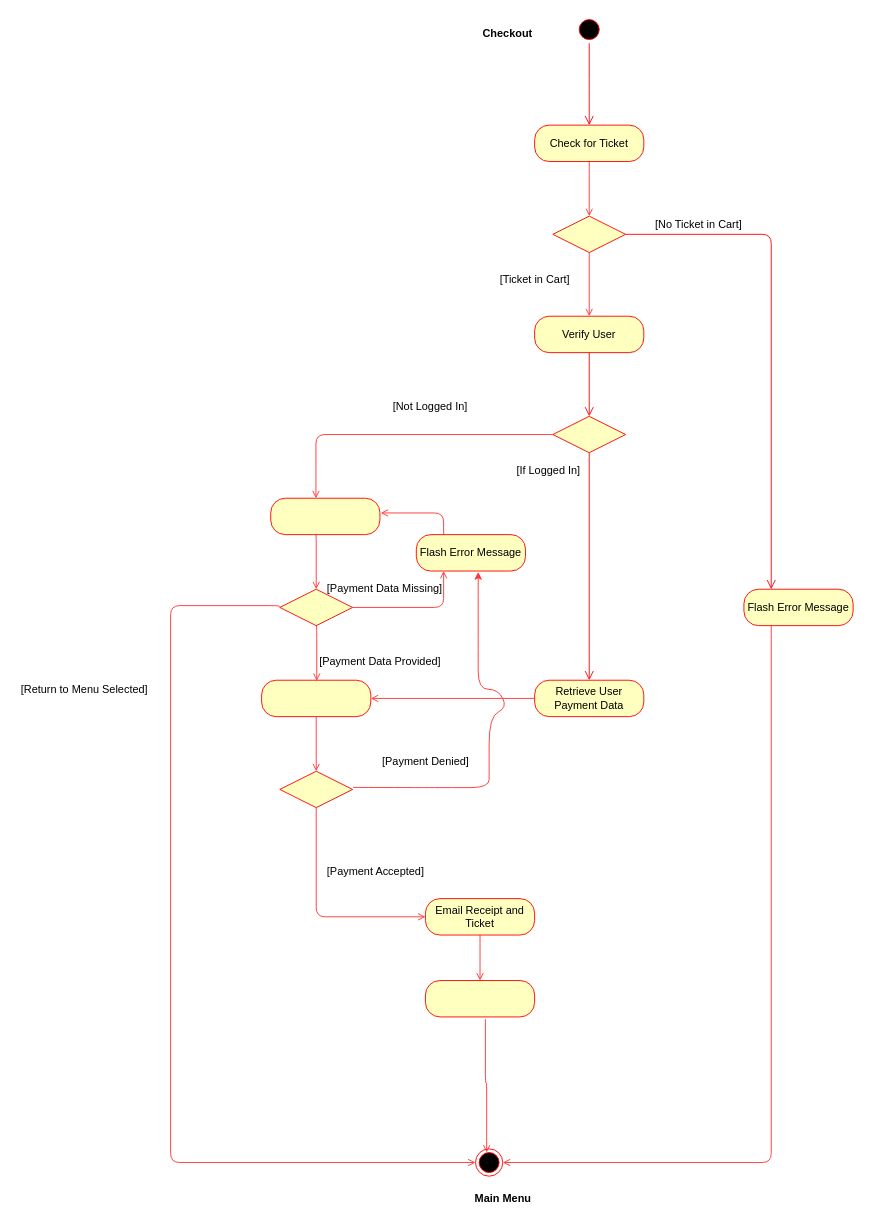
Some shapes in this 869 by 1224 pixel diagram are drawn without their labels. Here are the shapes that lost their labels. From the top down, the centre of each, then its label:
At pixel 325 516: "Ask for Payment Data".
At pixel 316 698: "Verify Payment Data".
At pixel 480 998: "Store Receipt and Ticket onto database".
